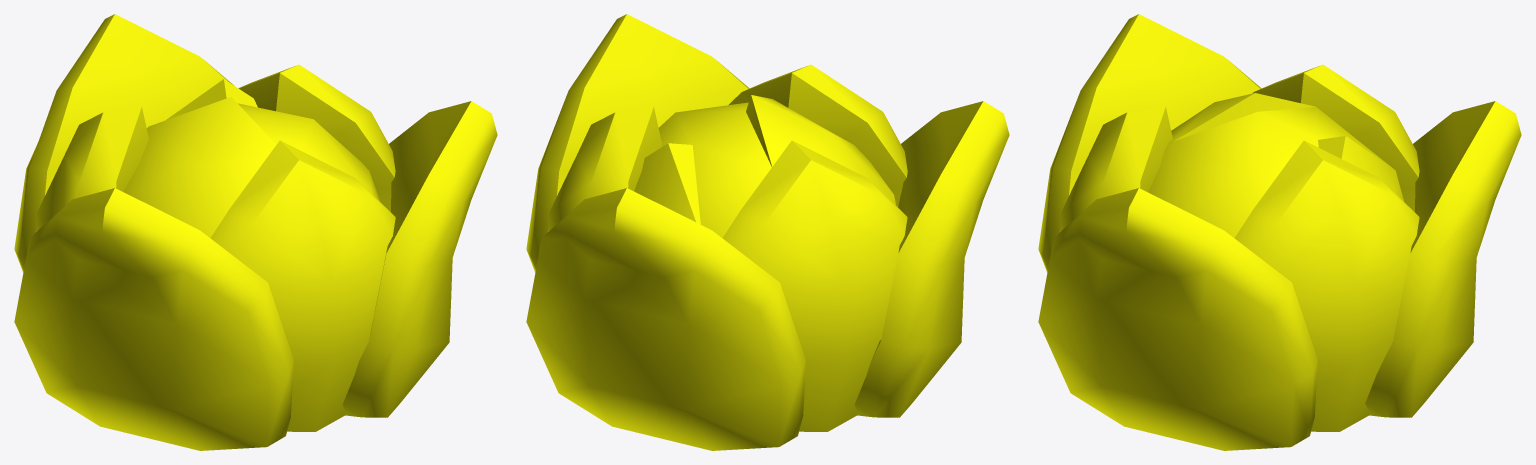
File: food_ingredient_lettuce.gltf
The picture shows the model from 3 angles, left to right: view 1: azimuth 30°, elevation 25°; view 2: azimuth 150°, elevation 25°; view 3: azimuth 270°, elevation 25°; orthographic projection.
Parts seen in each view (by area): view 1: food_ingredient_lettuce; view 2: food_ingredient_lettuce; view 3: food_ingredient_lettuce.
Part boxes in pixels (box(x1,y1,x2,y2)): food_ingredient_lettuce: box(14, 14, 497, 450); food_ingredient_lettuce: box(526, 14, 1009, 450); food_ingredient_lettuce: box(1038, 14, 1521, 450).
Size of the model in its own units: 1.1 by 0.8205 by 1.13.
1 material, 1 textured.
